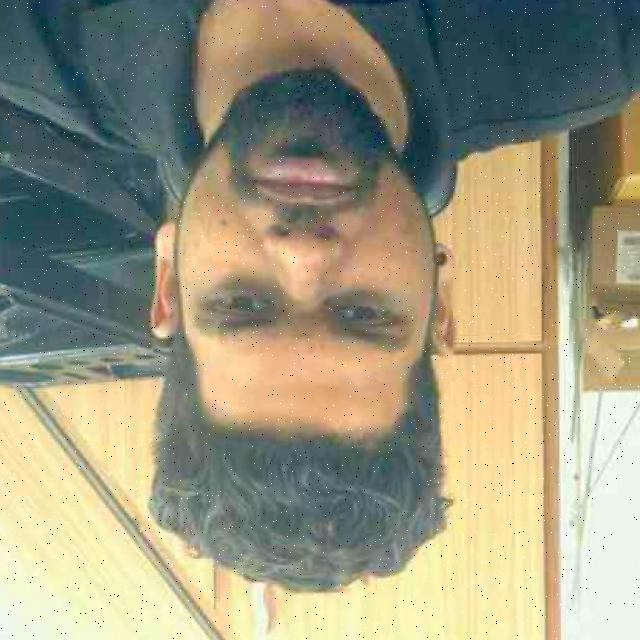puffy_eyes: (208, 276, 278, 306)
